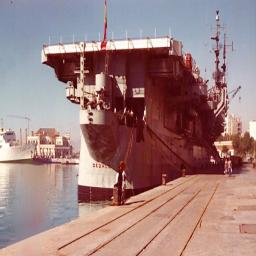Portanaves: (41, 6, 242, 207)
